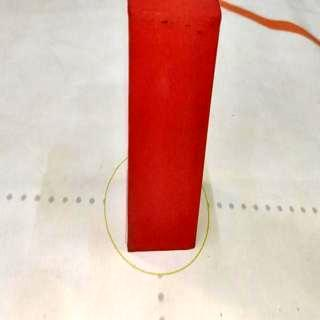redbox: (125, 0, 222, 248)
